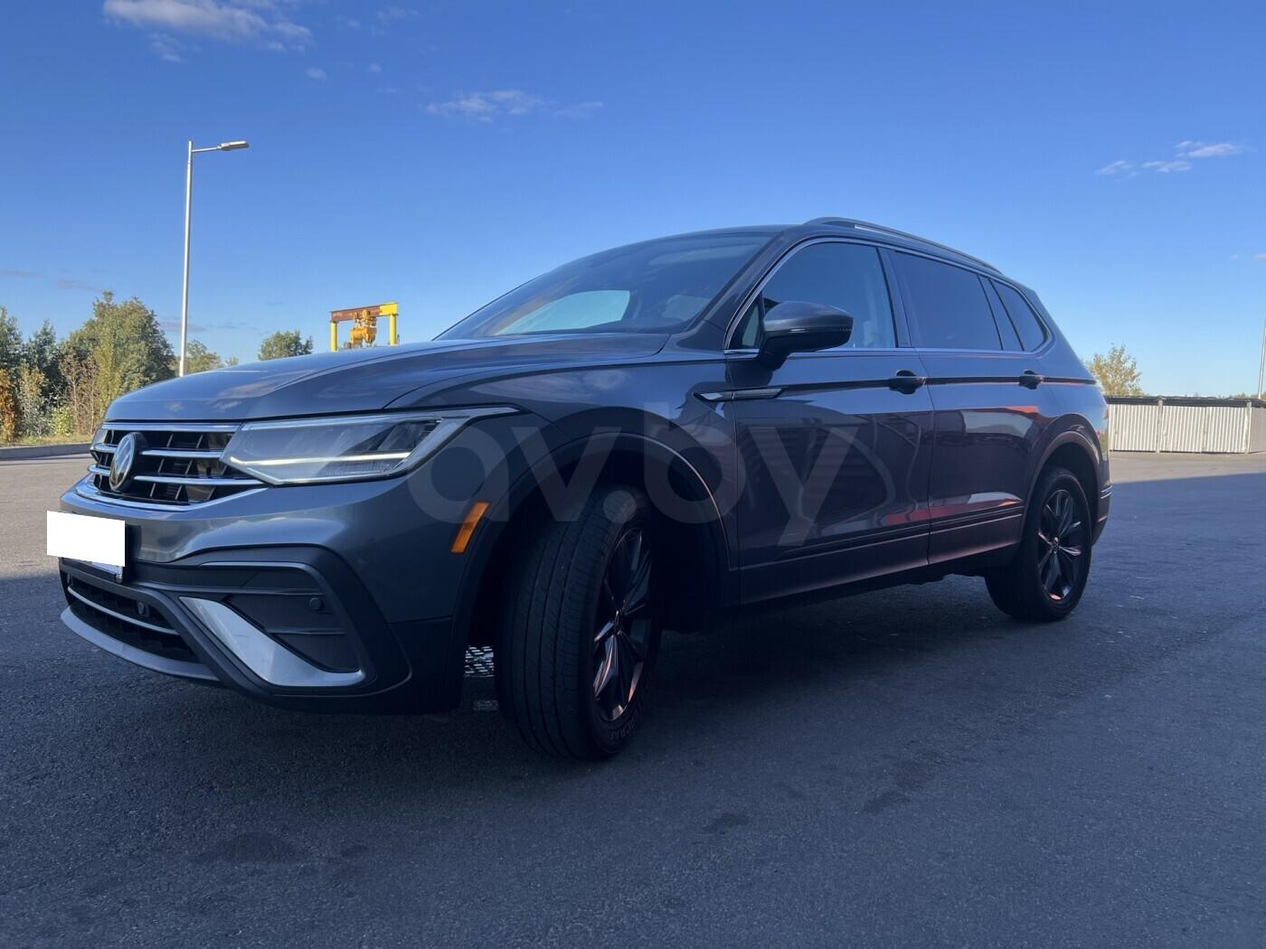Tiguan_2020-2024: (50, 218, 1124, 762)
